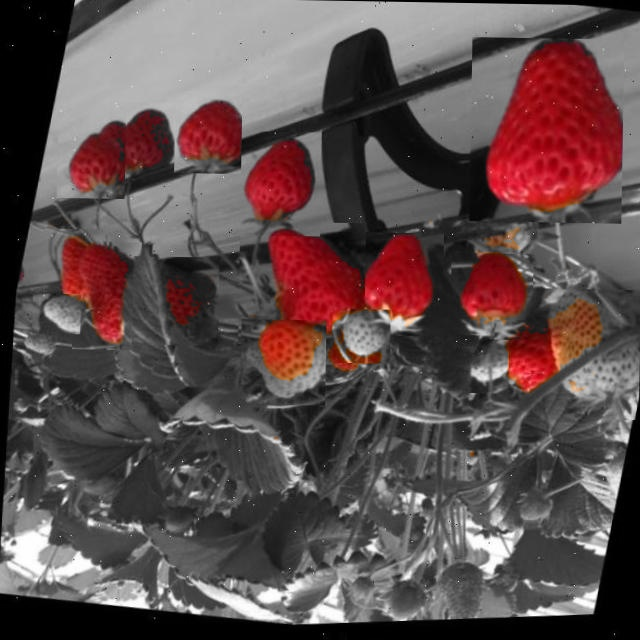ripe: (470, 36, 624, 223), (237, 220, 366, 346), (228, 130, 322, 236), (358, 232, 443, 336), (132, 256, 220, 345), (72, 241, 142, 350), (451, 252, 534, 336), (165, 90, 242, 173), (56, 108, 126, 198), (493, 318, 560, 406), (108, 101, 175, 182), (42, 228, 102, 309)
unripe: (523, 287, 640, 419), (240, 319, 326, 405), (331, 307, 390, 363), (462, 338, 508, 394), (32, 292, 81, 334)
